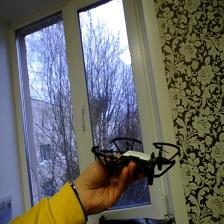drone: (92, 130, 182, 190)
